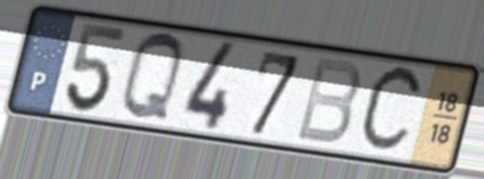4: (180, 37, 238, 135)
5: (62, 18, 130, 116)
7: (247, 47, 305, 137)
B: (291, 54, 364, 148)
C: (354, 62, 427, 159)
Q: (117, 29, 187, 126)
